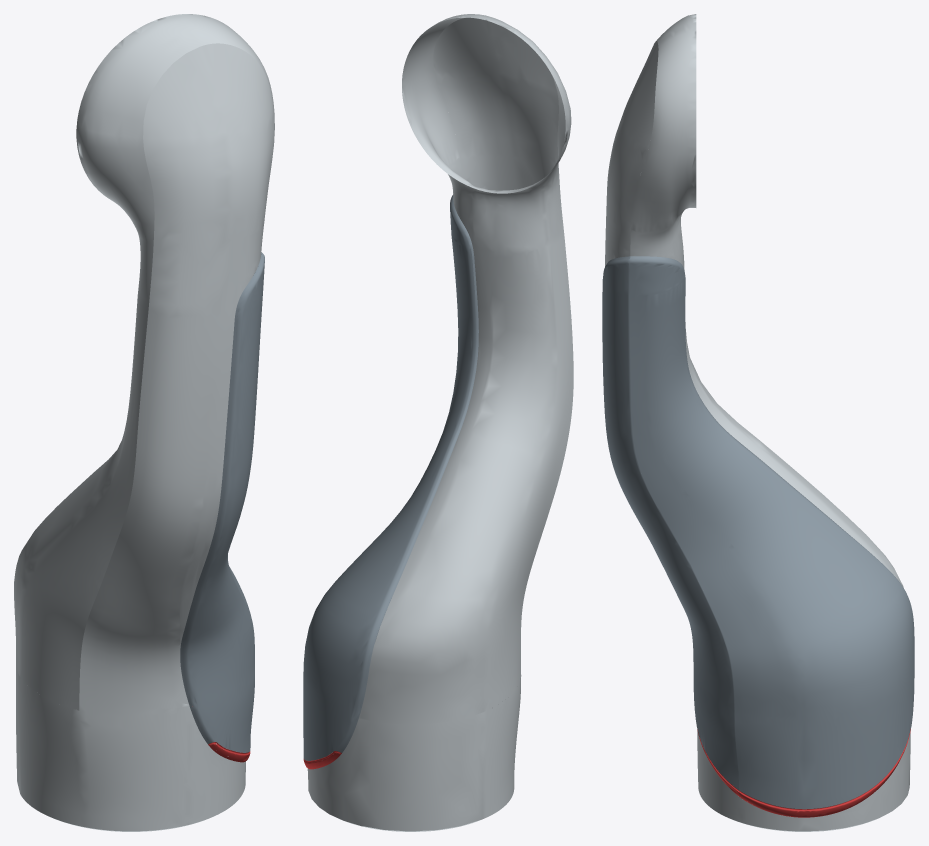
3 renders of one model, left to right at view 1: azimuth 30°, elevation 25°; view 2: azimuth 150°, elevation 25°; view 3: azimuth 270°, elevation 25°, orthographic. The views are drawn at different scales.
Parts seen in each view (by area): view 1: link_5.design_diana_v2.link_5; view 2: link_5.design_diana_v2.link_5; view 3: link_5.design_diana_v2.link_5.
Part boxes in pixels (<box>): link_5.design_diana_v2.link_5: <box>14,14,274,831</box>; link_5.design_diana_v2.link_5: <box>303,14,573,831</box>; link_5.design_diana_v2.link_5: <box>602,14,914,831</box>.
Bounding box in the file's own units: 0.1172 × 0.158 × 0.4218.
